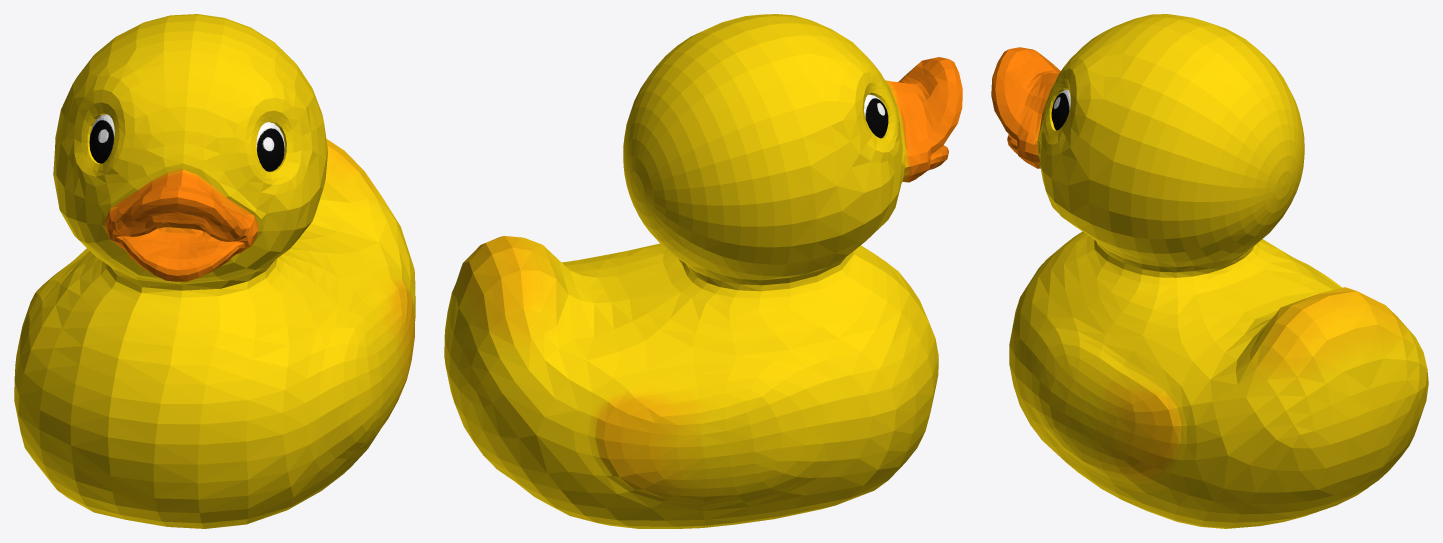
Rendered from duck_triangles.dae.
3 renders of one model, left to right at view 1: azimuth 30°, elevation 25°; view 2: azimuth 150°, elevation 25°; view 3: azimuth 270°, elevation 25°, orthographic. The views are drawn at different scales.
Parts seen in each view (by area): view 1: LOD3sp; view 2: LOD3sp; view 3: LOD3sp.
Part boxes in pixels (left/top/right/bottom): LOD3sp: left=14, top=14, right=415, bottom=528; LOD3sp: left=444, top=14, right=962, bottom=528; LOD3sp: left=991, top=14, right=1428, bottom=528.
Size of the model in its own units: 146 by 154 by 145.
1 material, 1 textured.
